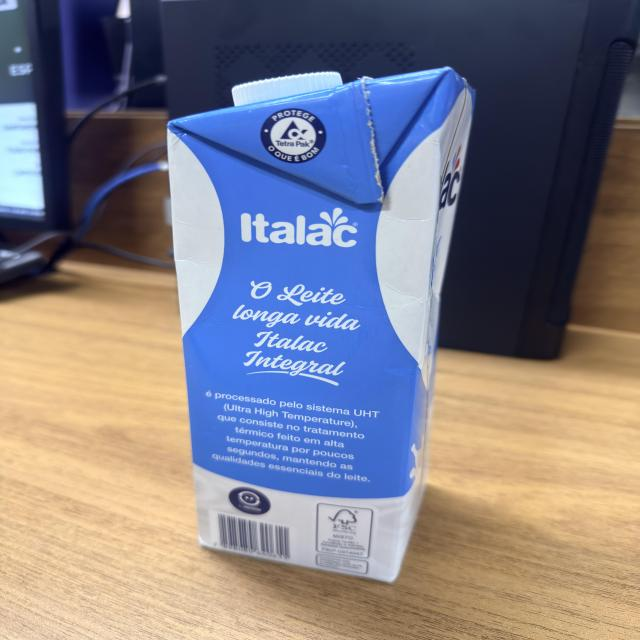Caixa de Leite: (165, 62, 477, 583)
